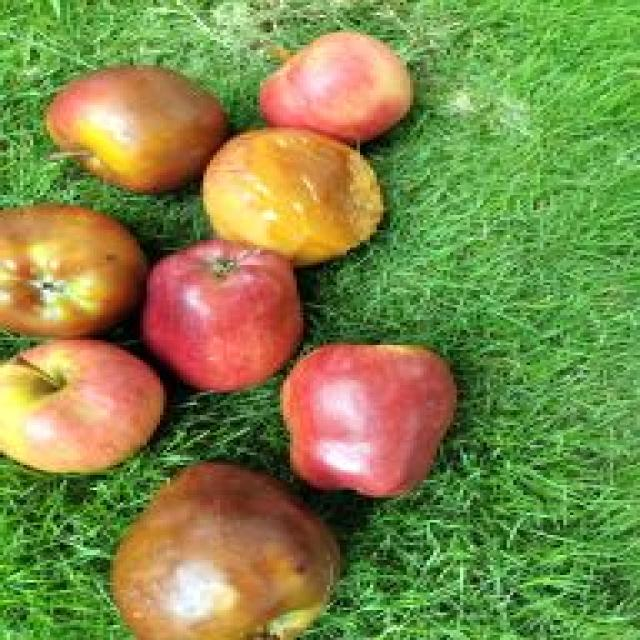Organik: (85, 460, 344, 640), (256, 332, 476, 500), (192, 126, 400, 272), (0, 336, 198, 468), (138, 234, 306, 386), (41, 65, 223, 203), (0, 191, 158, 342), (258, 38, 434, 140)
